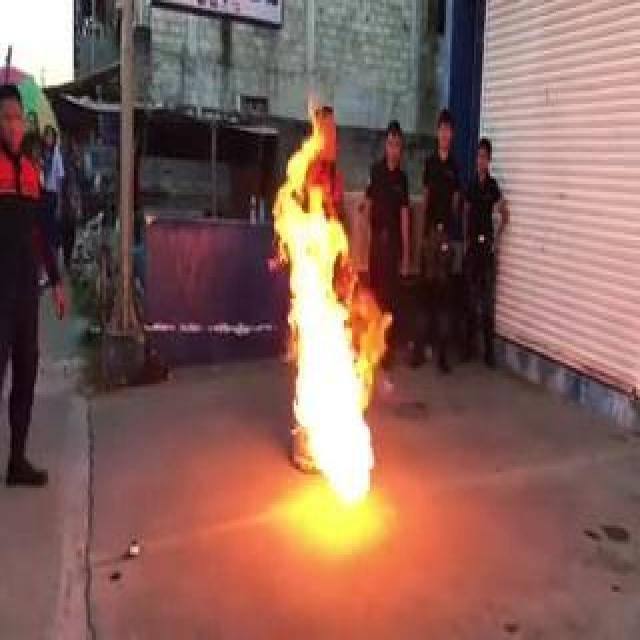Fire: (272, 128, 382, 512)
